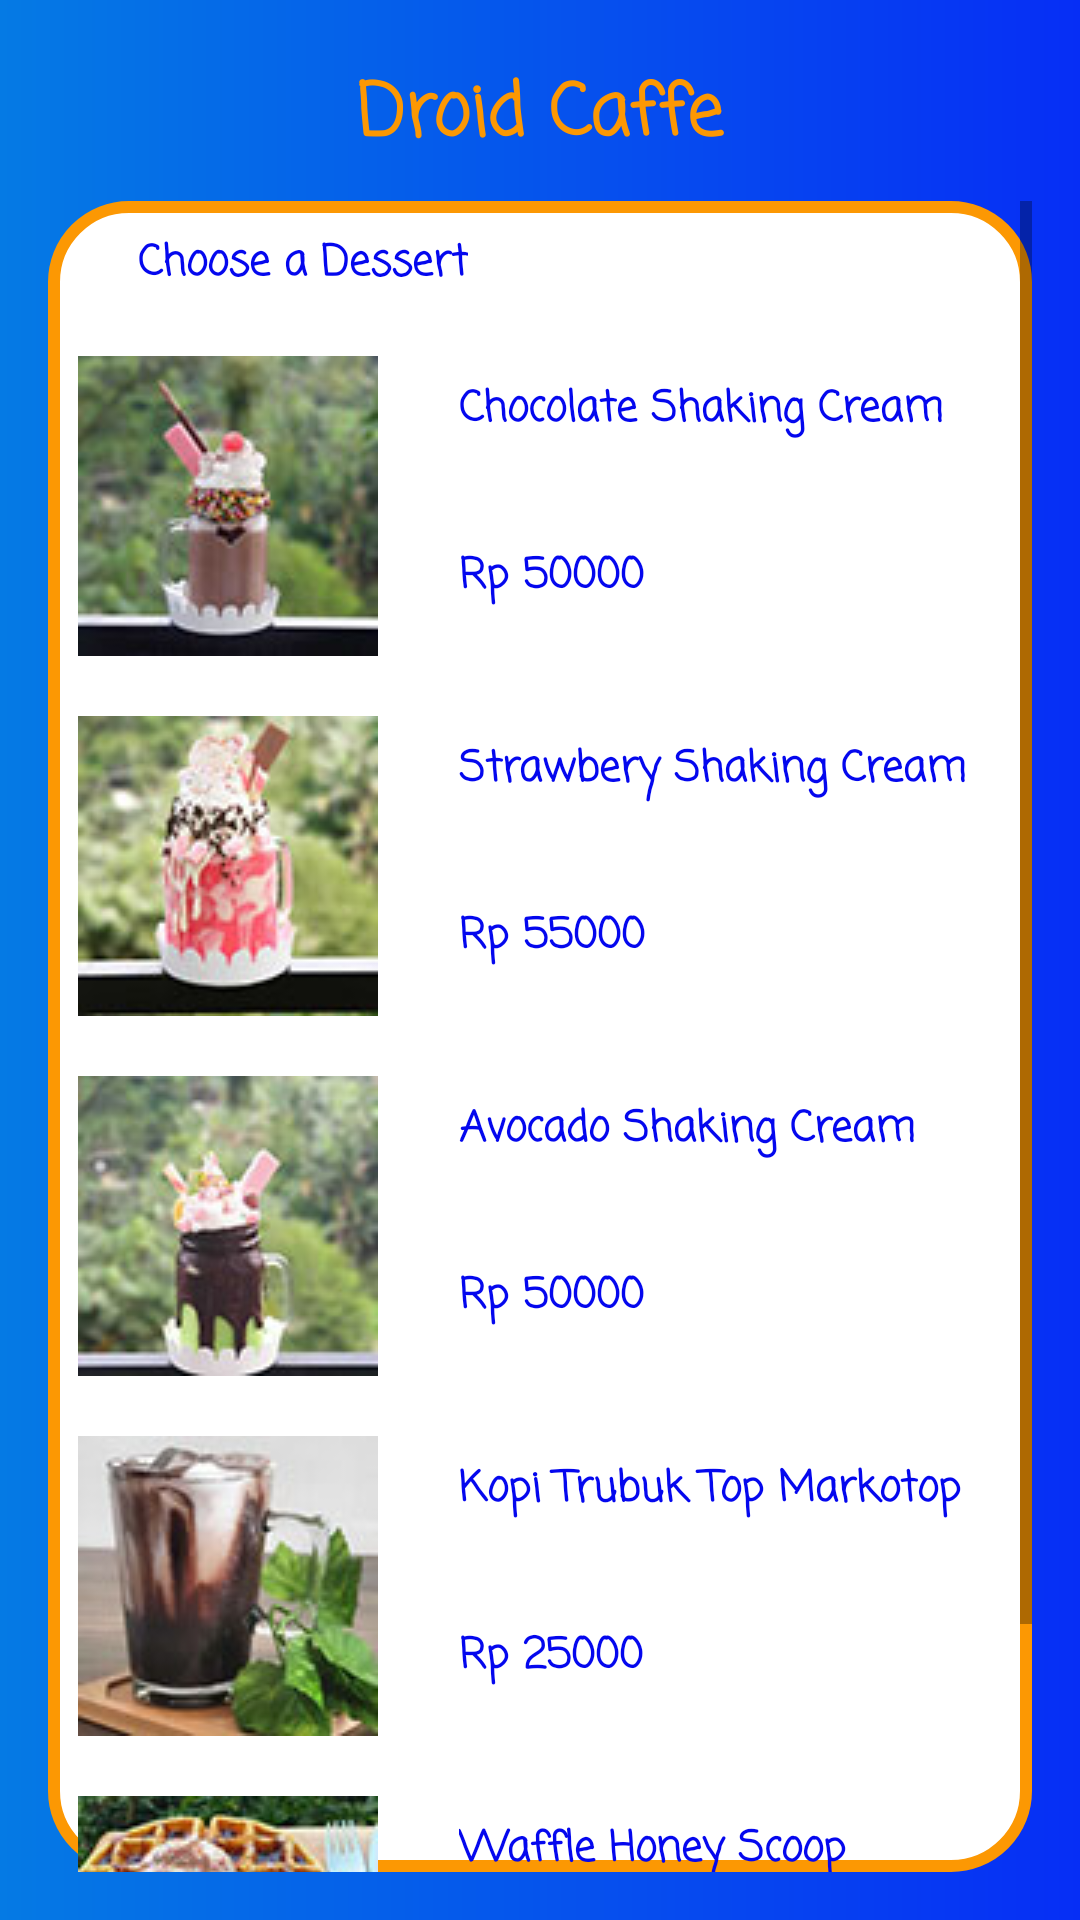

Icons on this 1080 x 1920 Android screen, each with the point to tap as (x,y):
tubruk: (228,1586)
